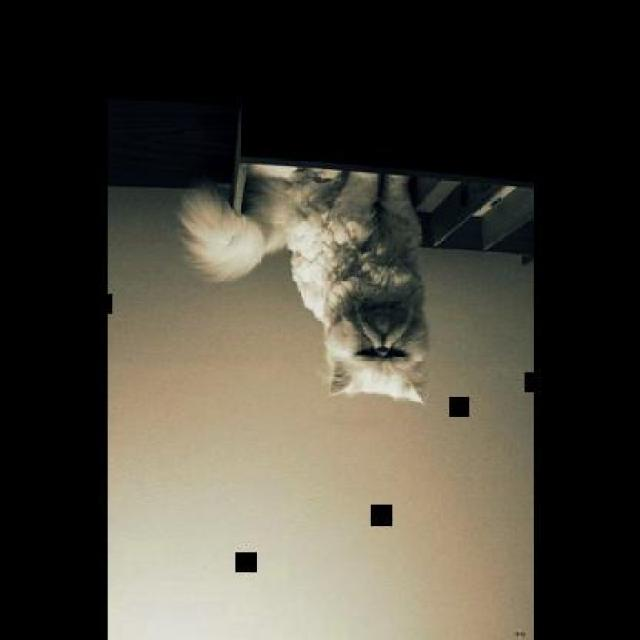unauthorized: (176, 163, 430, 405)
